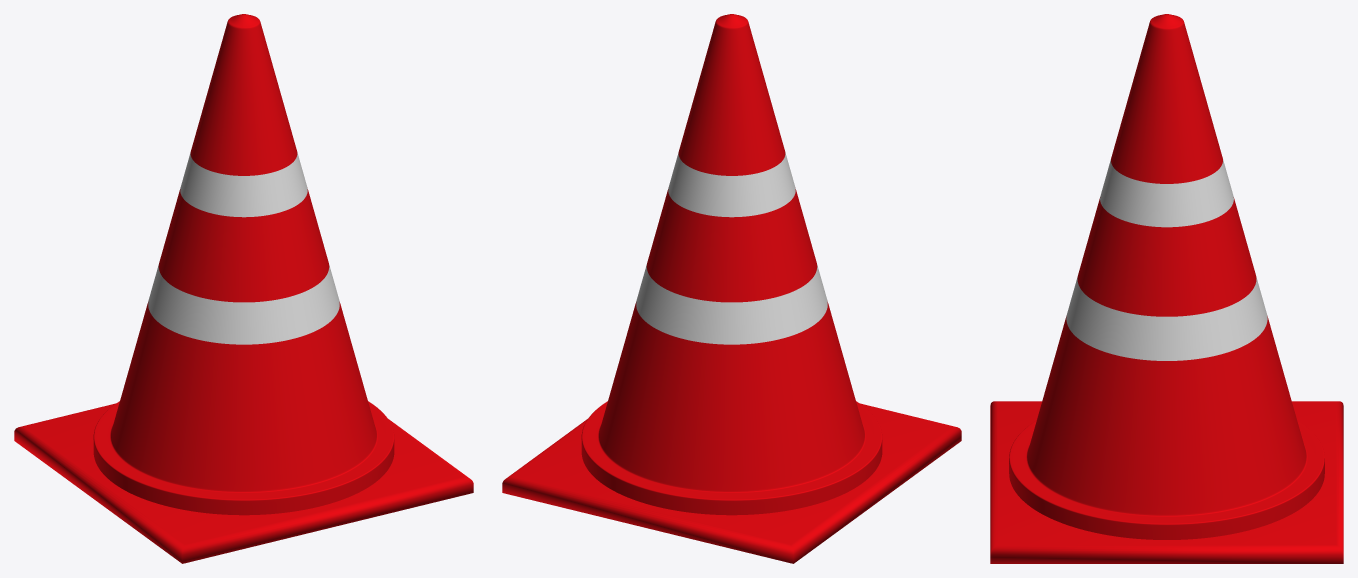
File: コーン.fbx
The picture shows the model from 3 angles, left to right: view 1: azimuth 30°, elevation 25°; view 2: azimuth 150°, elevation 25°; view 3: azimuth 270°, elevation 25°; orthographic projection. The views are drawn at different scales.
Parts seen in each view (by area): view 1: Circle; view 2: Circle; view 3: Circle.
Part boxes in pixels (x1,y1,x2,y2): Circle: [14, 14, 473, 563]; Circle: [502, 14, 961, 563]; Circle: [990, 14, 1343, 563].
Size of the model in its own units: 200 by 296 by 200.
